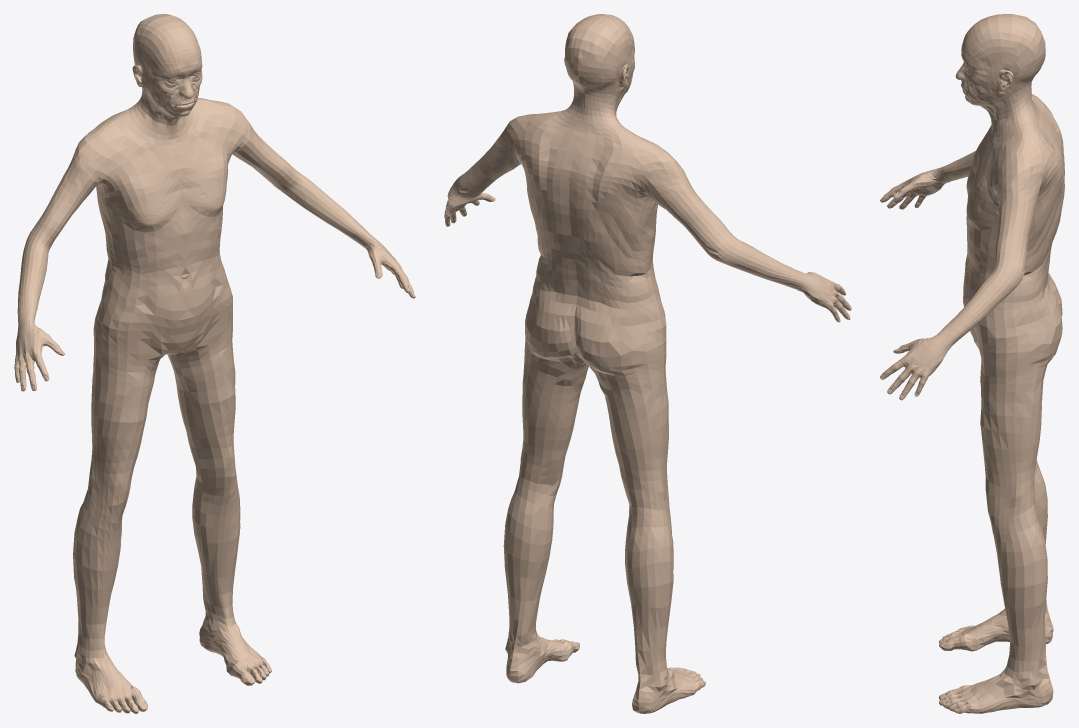
The model's file is male-elder-fit-toned.glb.
3 views of the same model, side by side, from view 1: azimuth 30°, elevation 25°; view 2: azimuth 150°, elevation 25°; view 3: azimuth 270°, elevation 25° (orthographic).
Parts seen in each view (by area): view 1: world; view 2: world; view 3: world.
Part boxes in pixels (bbox=[...]): world: bbox=[14, 14, 415, 713]; world: bbox=[444, 14, 851, 713]; world: bbox=[880, 14, 1064, 713].
Size of the model in its own units: 1.2 by 1.92 by 0.489.
